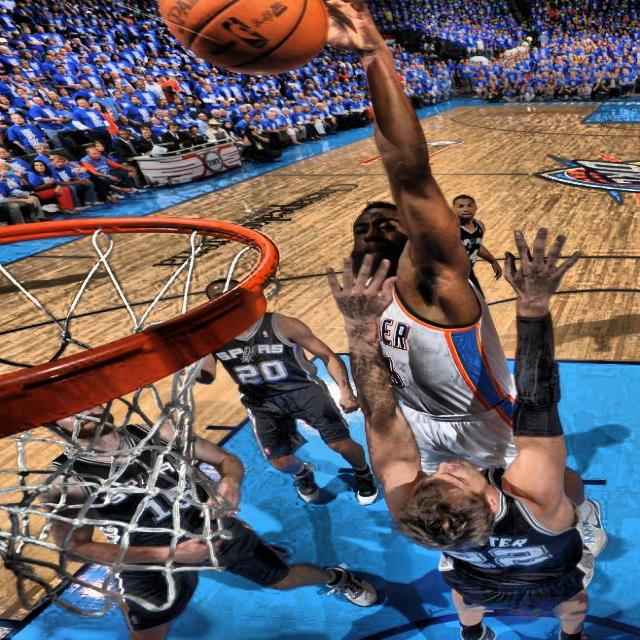board: (160, 0, 328, 77)
rim: (0, 219, 277, 614)
